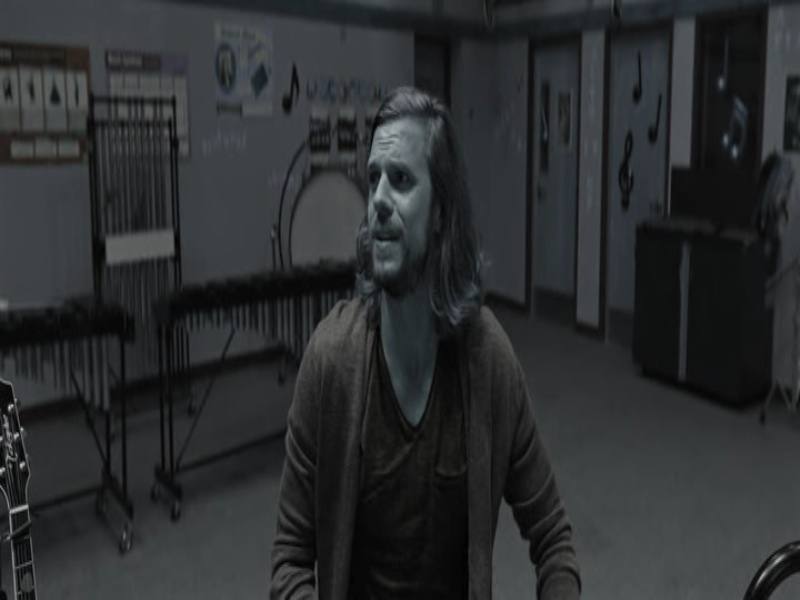TsisyArotava: (351, 92, 441, 291)
